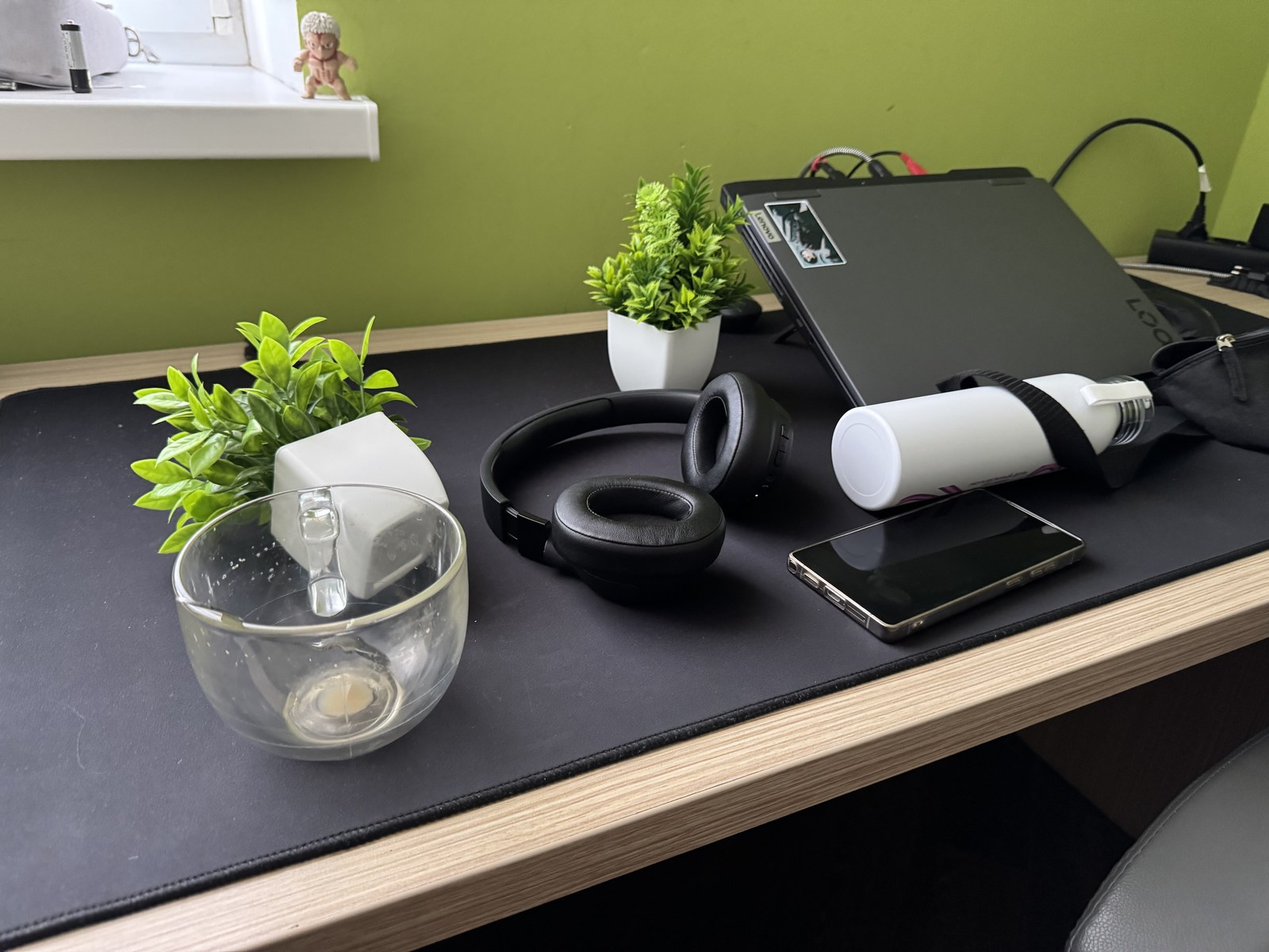cell phone: (787, 487, 1087, 642)
laptop: (721, 169, 1207, 407)
